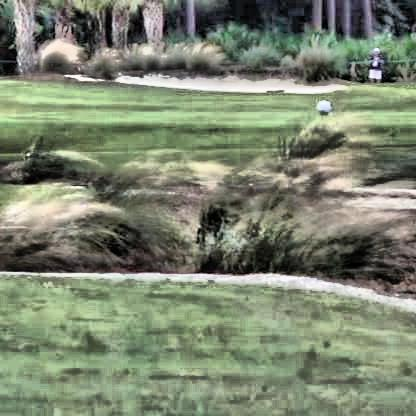golfball: (315, 98, 327, 113)
